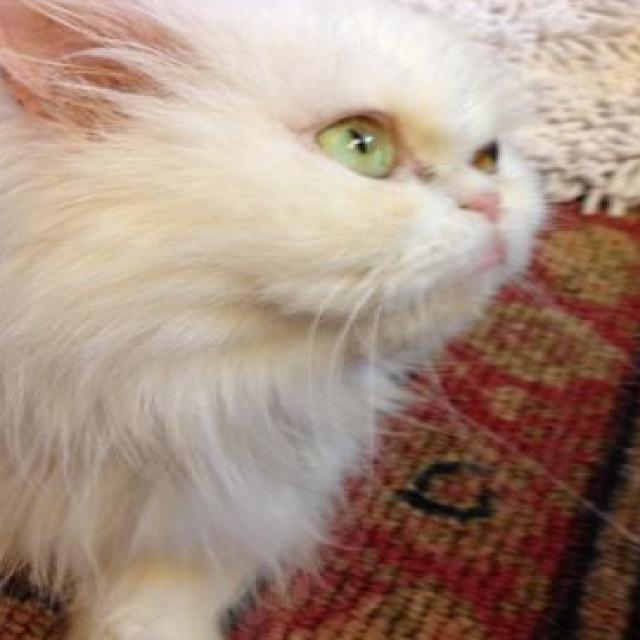Persian: (0, 0, 559, 640)
